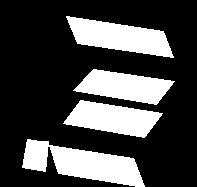parkingspot: (66, 16, 173, 57), (49, 145, 144, 187), (63, 100, 162, 137), (73, 69, 174, 104), (22, 139, 48, 171)
